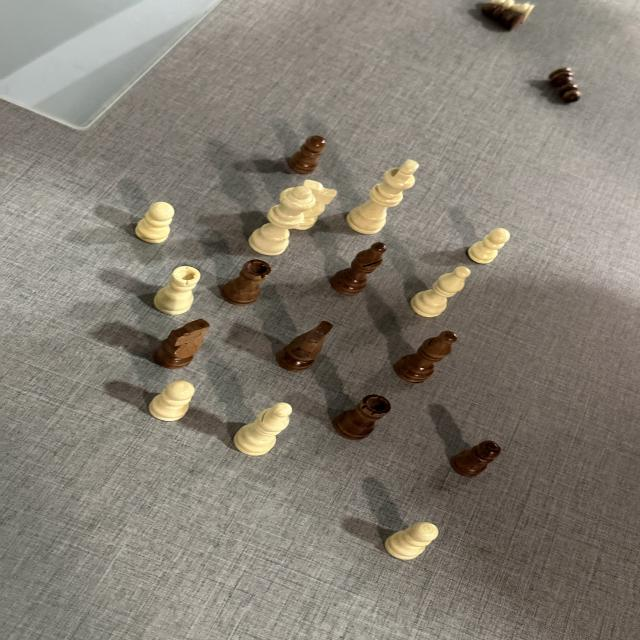Black-Bishop: (394, 330, 458, 383), (330, 241, 388, 296)
Black-Knight: (276, 321, 334, 372), (152, 318, 210, 369)
Black-Pawn: (452, 440, 501, 478), (288, 135, 327, 174)
Black-Rook: (332, 394, 392, 441), (221, 259, 272, 306)
White-Bishop: (234, 402, 293, 456), (410, 266, 471, 318)
White-King: (346, 158, 420, 235)
White-Knight: (295, 179, 337, 231)
White-Pawn: (148, 381, 196, 422), (136, 202, 176, 244), (468, 228, 512, 265)
White-Queen: (248, 187, 316, 256)
White-Rook: (154, 266, 202, 316)
